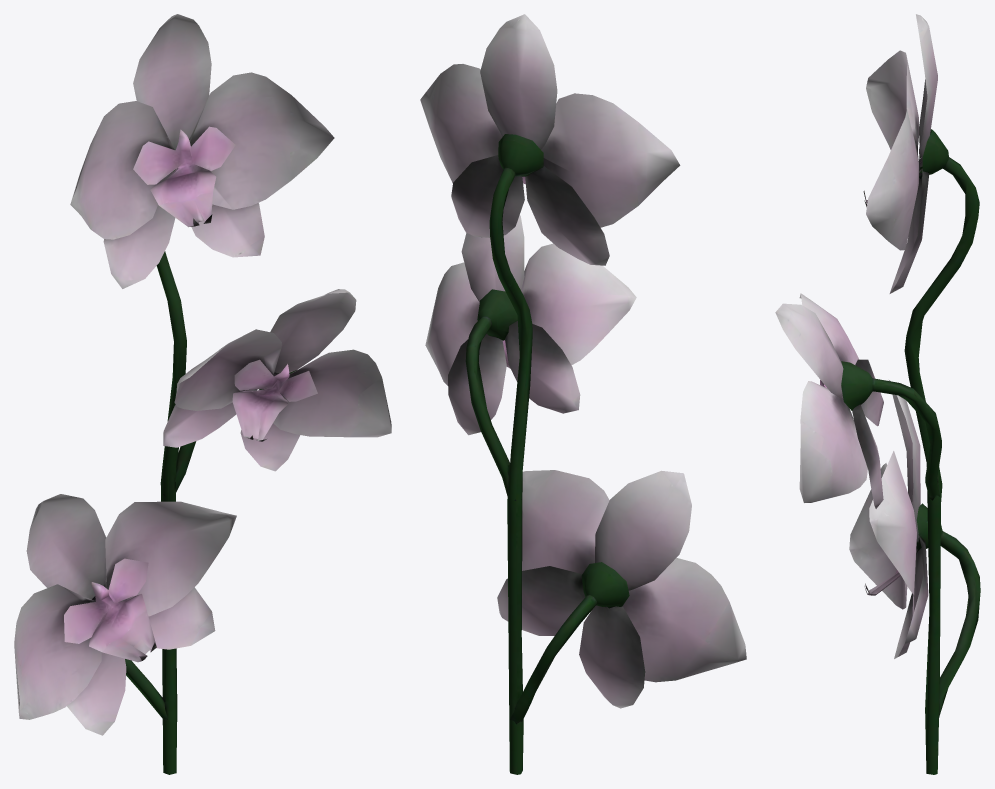
Rendered from orkide.glb.
3 views of the same model, side by side, from view 1: azimuth 30°, elevation 25°; view 2: azimuth 150°, elevation 25°; view 3: azimuth 270°, elevation 25° (orthographic).
Parts seen in each view (by area): view 1: Object_2; view 2: Object_2; view 3: Object_2.
Boxes of the visible parts, <box> form: Object_2: <box>14,14,391,774</box>; Object_2: <box>420,14,746,774</box>; Object_2: <box>775,14,980,774</box>.
Size of the model in its own units: 10.66 by 22.28 by 5.47.
1 material, 1 textured.
